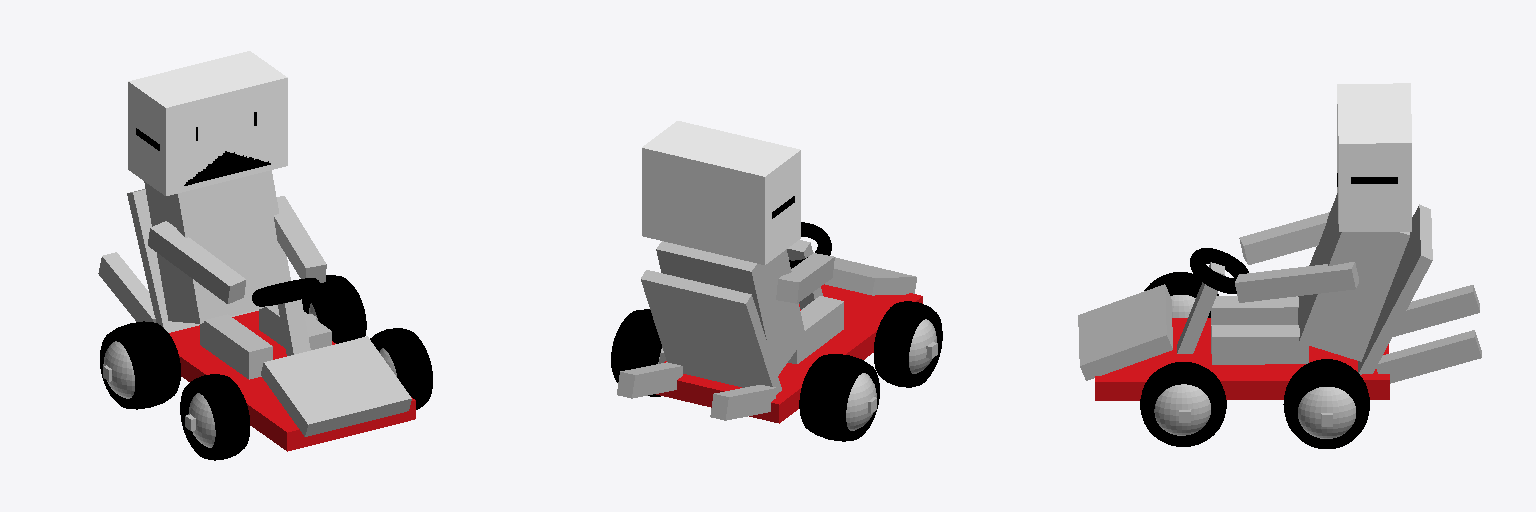
The picture shows the model from 3 angles: view 1: azimuth 30°, elevation 25°; view 2: azimuth 150°, elevation 25°; view 3: azimuth 270°, elevation 25°; orthographic projection.
Visible parts, largest first — view 1: 立方体.007_立方体.017, 立方体.013_立方体.018, 立方体.001_立方体.016, 立方体_立方体.001, トーラス.001, トーラス, 立方体.009_立方体.010, 立方体.012_立方体.013, トーラス.003, トーラス.002, 立方体.004_立方体.005, 立方体.010_立方体.011 (+6 smaller); view 2: 立方体.007_立方体.017, 立方体.004_立方体.005, 立方体.013_立方体.018, 立方体_立方体.001, トーラス.001, トーラス, トーラス.003, 立方体.001_立方体.016, 立方体.012_立方体.013, 立方体.009_立方体.010, 立方体.005_立方体.006, 立方体.006_立方体.007 (+4 smaller); view 3: 立方体.007_立方体.017, 立方体.013_立方体.018, 立方体_立方体.001, 立方体.001_立方体.016, 立方体.004_立方体.005, トーラス.003, 立方体.011_立方体.014, トーラス.002, 立方体.010_立方体.011, 立方体.006_立方体.007, 立方体.009_立方体.010, 立方体.005_立方体.006 (+6 smaller).
Part boxes in pixels (x1,y1,x2,y2): 立方体.007_立方体.017: (128, 51, 287, 195); 立方体.013_立方体.018: (144, 170, 290, 323); 立方体.001_立方体.016: (261, 336, 411, 436); 立方体_立方体.001: (169, 311, 415, 451); トーラス.001: (100, 321, 180, 409); トーラス: (180, 374, 249, 460); 立方体.009_立方体.010: (148, 221, 245, 303); 立方体.012_立方体.013: (200, 314, 272, 379); トーラス.003: (302, 275, 366, 343); トーラス.002: (370, 328, 432, 409); 立方体.004_立方体.005: (127, 189, 258, 332); 立方体.010_立方体.011: (274, 196, 326, 282); 立方体.007_立方体.017: (642, 121, 800, 264); 立方体.004_立方体.005: (641, 270, 781, 393); 立方体.013_立方体.018: (656, 241, 805, 375); 立方体_立方体.001: (656, 284, 922, 423); トーラス.001: (799, 354, 879, 441); トーラス: (874, 301, 942, 387); トーラス.003: (611, 309, 661, 396); 立方体.001_立方体.016: (788, 252, 916, 295); 立方体.012_立方体.013: (788, 296, 843, 363); 立方体.009_立方体.010: (776, 253, 834, 303); 立方体.005_立方体.006: (710, 385, 776, 420); 立方体.006_立方体.007: (617, 362, 682, 398); 立方体.007_立方体.017: (1337, 83, 1411, 231); 立方体.013_立方体.018: (1298, 193, 1409, 361); 立方体_立方体.001: (1095, 318, 1389, 400); 立方体.001_立方体.016: (1078, 284, 1172, 380); 立方体.004_立方体.005: (1358, 204, 1432, 374); トーラス.003: (1283, 359, 1369, 448); 立方体.011_立方体.014: (1211, 325, 1308, 364); トーラス.002: (1140, 362, 1226, 446); 立方体.010_立方体.011: (1235, 262, 1358, 302); 立方体.006_立方体.007: (1376, 330, 1481, 383); 立方体.009_立方体.010: (1239, 212, 1329, 264); 立方体.005_立方体.006: (1393, 285, 1479, 336).
Bounding box in the file's own units: 4.9 × 5.19 × 6.68.
23 materials, 3 textured.